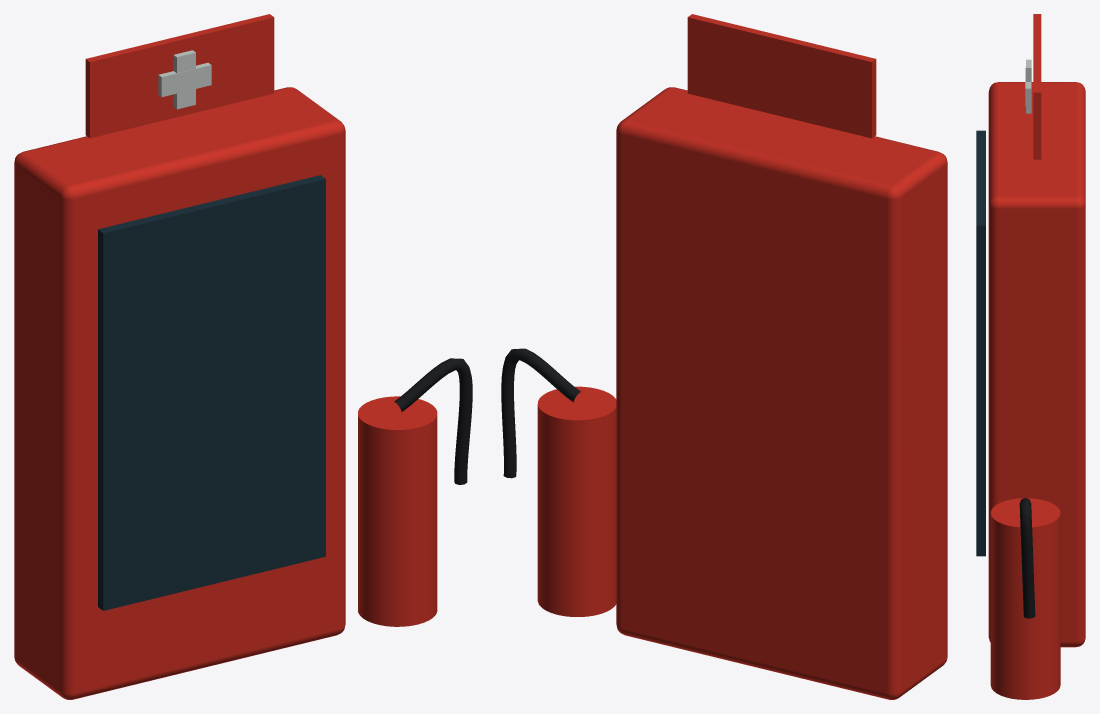
The model's file is fire-station.63f585a2d66a.glb.
3 views of the same model, side by side, from view 1: azimuth 30°, elevation 25°; view 2: azimuth 150°, elevation 25°; view 3: azimuth 270°, elevation 25° (orthographic). The views are drawn at different scales.
Visible parts, largest first — view 1: cabinet_0001, glass_front_0002, extinguisher_0004, notice_0006, hose_0005, notice_cross_0008, notice_cross_0007; view 2: cabinet_0001, extinguisher_0004, notice_0006, hose_0005; view 3: cabinet_0001, extinguisher_0004, glass_front_0002, hose_0005, notice_0006, notice_cross_0007.
Part boxes in pixels (left/top/right/bottom): cabinet_0001: left=14, top=87, right=345, bottom=699; glass_front_0002: left=98, top=175, right=325, bottom=610; extinguisher_0004: left=358, top=396, right=437, bottom=626; notice_0006: left=85, top=14, right=274, bottom=138; hose_0005: left=394, top=358, right=472, bottom=484; notice_cross_0008: left=158, top=62, right=211, bottom=97; notice_cross_0007: left=173, top=50, right=195, bottom=109; cabinet_0001: left=616, top=87, right=947, bottom=699; extinguisher_0004: left=537, top=386, right=616, bottom=616; notice_0006: left=687, top=14, right=876, bottom=138; hose_0005: left=501, top=348, right=580, bottom=478; cabinet_0001: left=988, top=82, right=1085, bottom=647; extinguisher_0004: left=990, top=498, right=1060, bottom=699; glass_front_0002: left=976, top=130, right=985, bottom=556; hose_0005: left=1019, top=498, right=1035, bottom=618; notice_0006: left=1033, top=14, right=1041, bottom=159; notice_cross_0007: left=1026, top=59, right=1031, bottom=113.
Bounding box in the file's own units: 1.12 × 1.54 × 0.2825.
